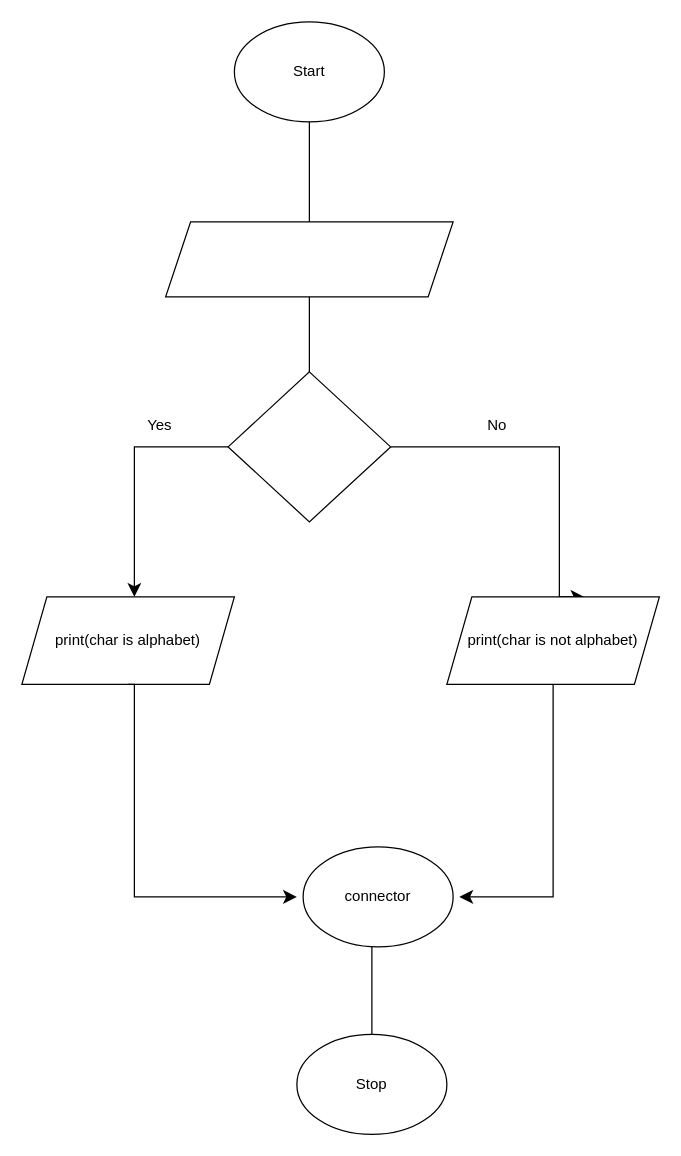
Some shapes in this 681 by 1156 pixel diagram are drawn without their labels. The shapes that lost their labels are listed below. From the top down, each one's centre as x and y in pixels, then its label:
(308,259): Enter any character
(309,446): if char = qwertyuiop asdfghjkl zxcvbnm
